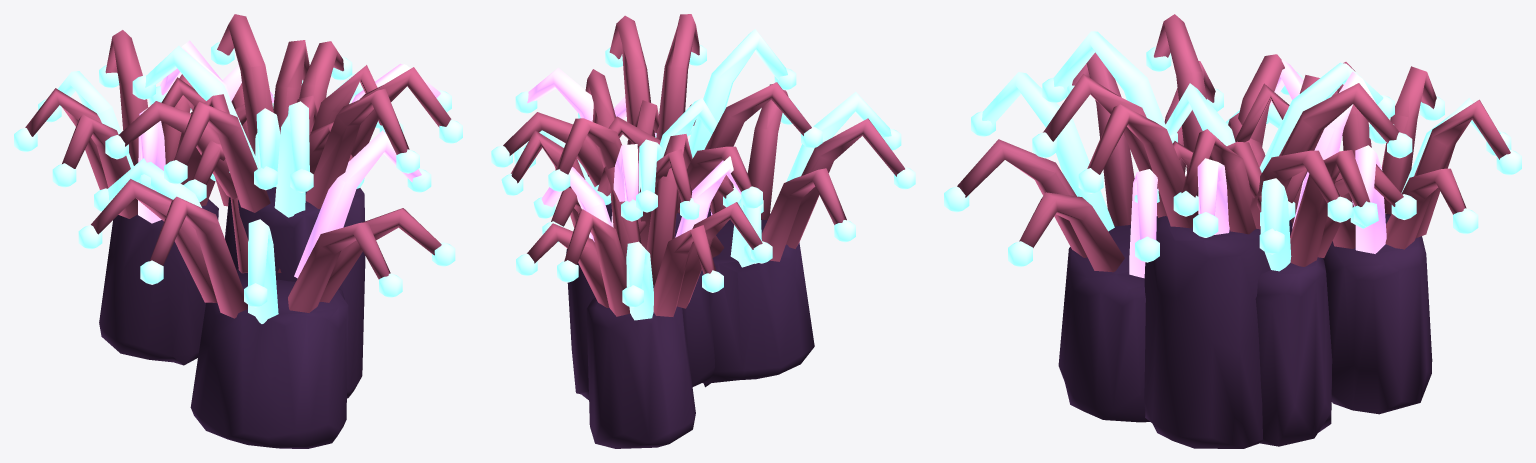
File: shore_glow_anemone.glb
3 views of the same model, side by side, from view 1: azimuth 30°, elevation 25°; view 2: azimuth 150°, elevation 25°; view 3: azimuth 270°, elevation 25° (orthographic). The views are drawn at different scales.
Parts seen in each view (by area): view 1: shore_glow_anemone; view 2: shore_glow_anemone; view 3: shore_glow_anemone.
Part boxes in pixels (x1=…): shore_glow_anemone: x1=14, y1=14, x2=462, y2=448; shore_glow_anemone: x1=491, y1=14, x2=915, y2=448; shore_glow_anemone: x1=944, y1=14, x2=1521, y2=448.
Size of the model in its own units: 1.56 by 1.4 by 2.
